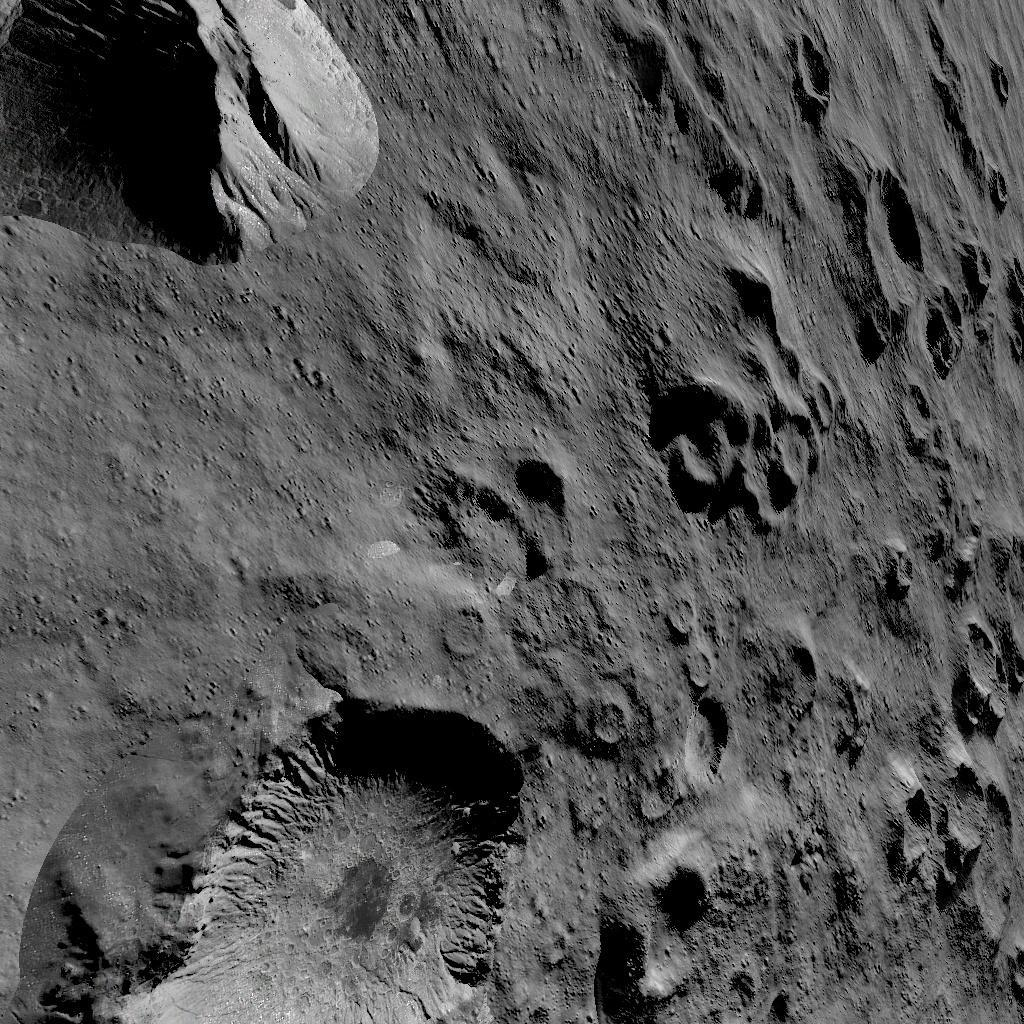Boulders: (3, 0, 378, 260)
Crater: (3, 700, 522, 1024), (586, 838, 792, 1024), (627, 356, 818, 537), (873, 735, 1007, 916), (420, 464, 576, 582), (646, 600, 735, 777), (918, 243, 1024, 380), (834, 167, 910, 321), (927, 611, 1024, 724), (758, 40, 828, 124), (947, 926, 1024, 1000), (765, 644, 818, 726), (424, 604, 486, 665), (892, 388, 943, 456), (860, 533, 908, 601), (573, 694, 626, 750), (984, 60, 1018, 108), (982, 174, 1016, 217)
Plan surface: (0, 268, 379, 688), (391, 2, 600, 452)
